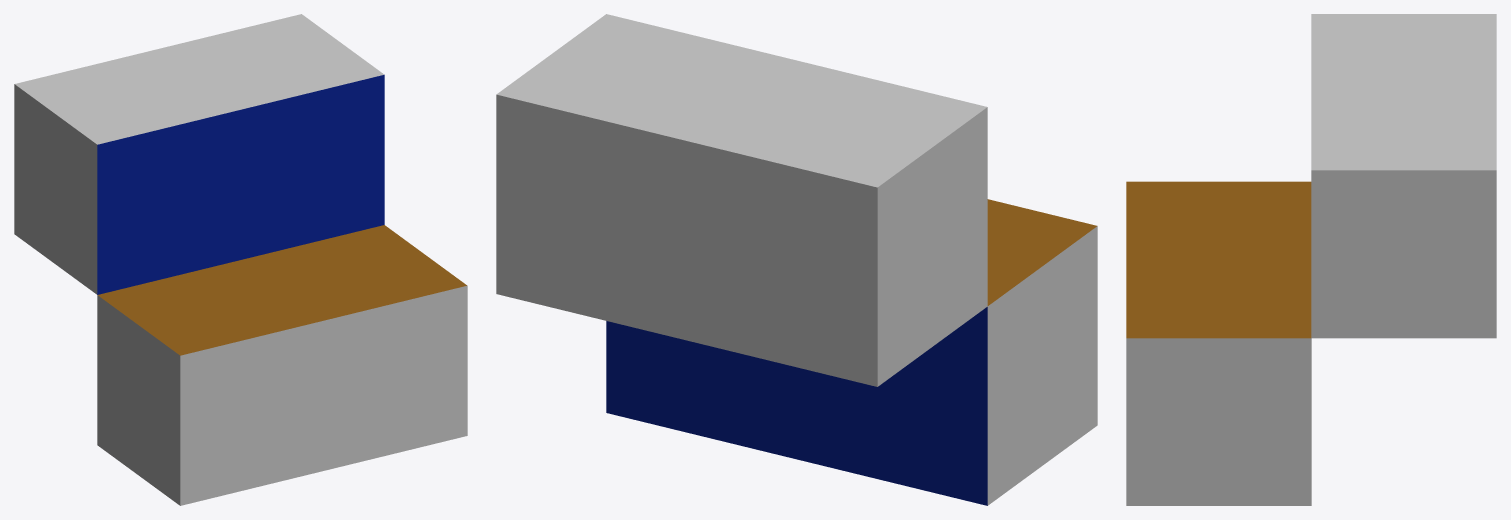
Rendered from case_60.fbx.
3 renders of one model, left to right at view 1: azimuth 30°, elevation 25°; view 2: azimuth 150°, elevation 25°; view 3: azimuth 270°, elevation 25°, orthographic. The views are drawn at different scales.
Parts seen in each view (by area): view 1: case_60; view 2: case_60; view 3: case_60.
Boxes of the visible parts, x1,y1,x2,y2 form: case_60: (14,14,467,505); case_60: (496,14,1097,505); case_60: (1126,14,1496,505).
Size of the model in its own units: 1 by 1 by 1.
